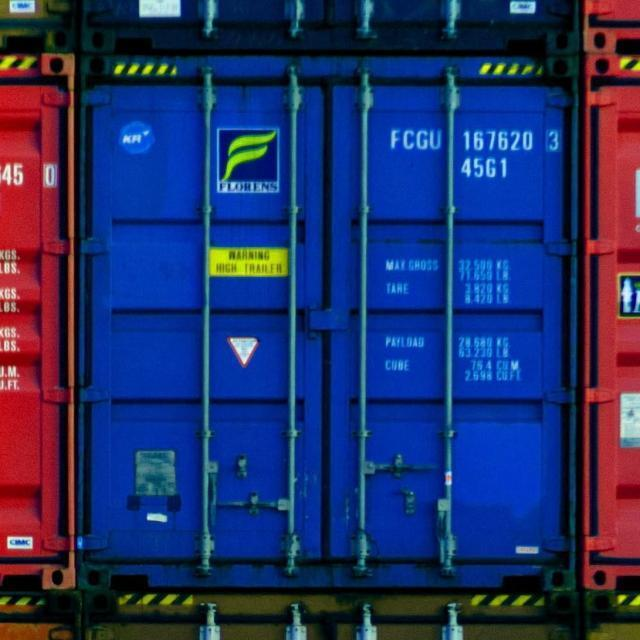ISO: (462, 156, 510, 178)
container_number: (395, 130, 558, 152)
